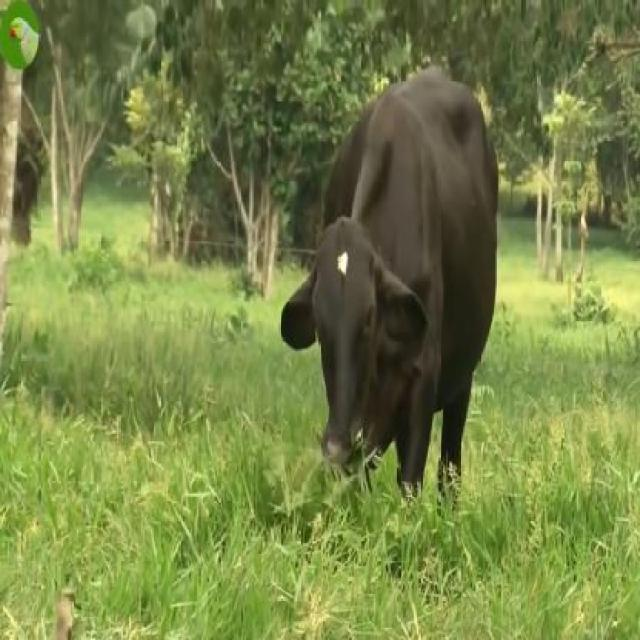Cow: (280, 68, 498, 504)
